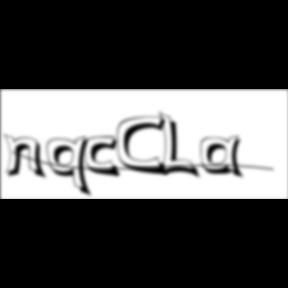C: (118, 115, 172, 178)
L: (159, 110, 203, 182)
a: (201, 135, 249, 182)
c: (85, 136, 125, 180)
n: (3, 132, 50, 181)
q: (46, 135, 96, 200)
